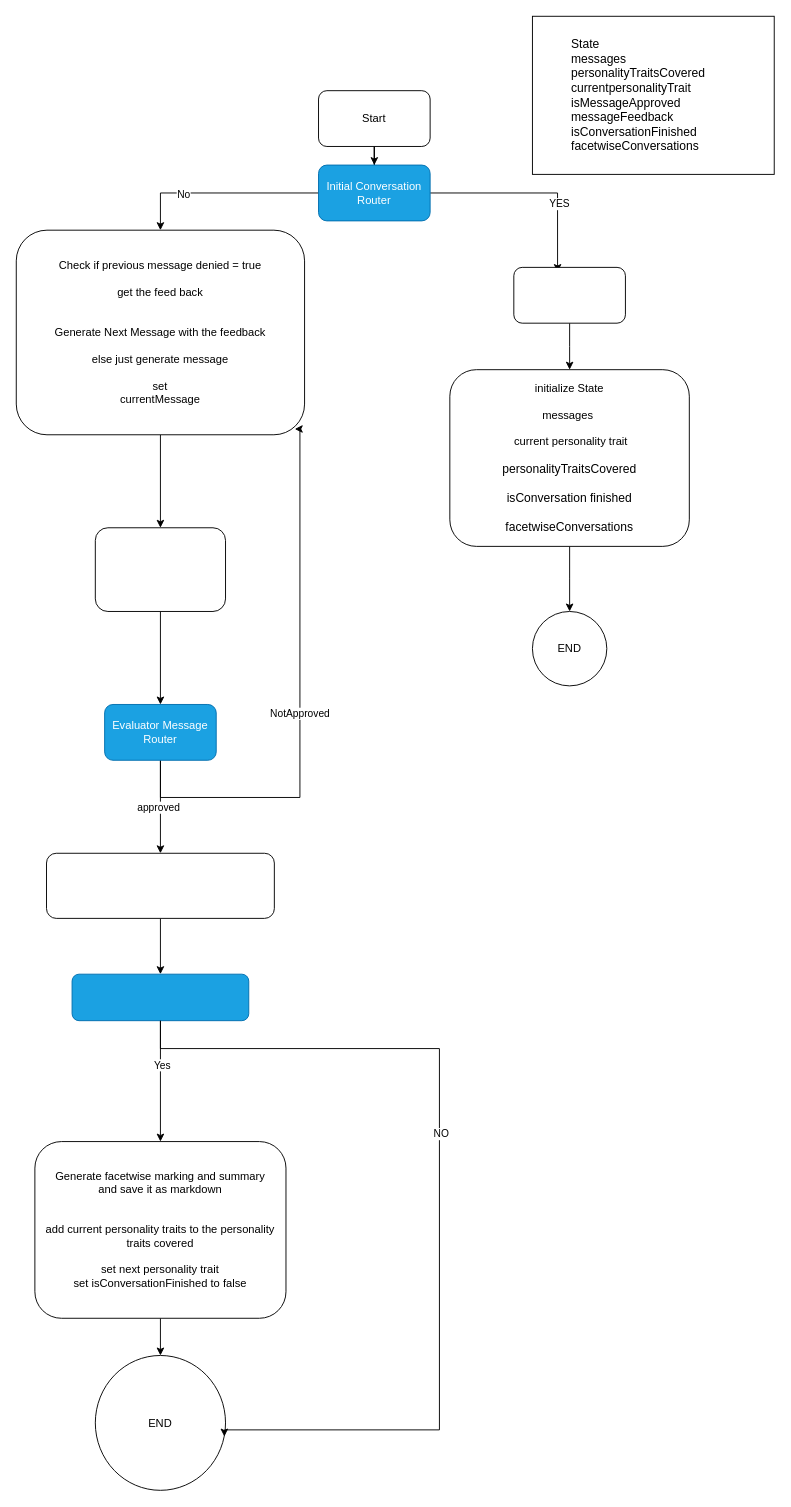
This 791x1507 diagram has some shape labels left out. The shapes that lost their labels are listed below. From the top down, each one's centre as x and y in pixels, then its label:
At (x=569, y=294): "generate initial message".
At (x=160, y=569): "Evaluate The Message generate message feedback if not not approved".
At (x=160, y=885): "IsConversationCompleted set it to true otherise false".
At (x=160, y=997): "ConversationCompleteRouter".
